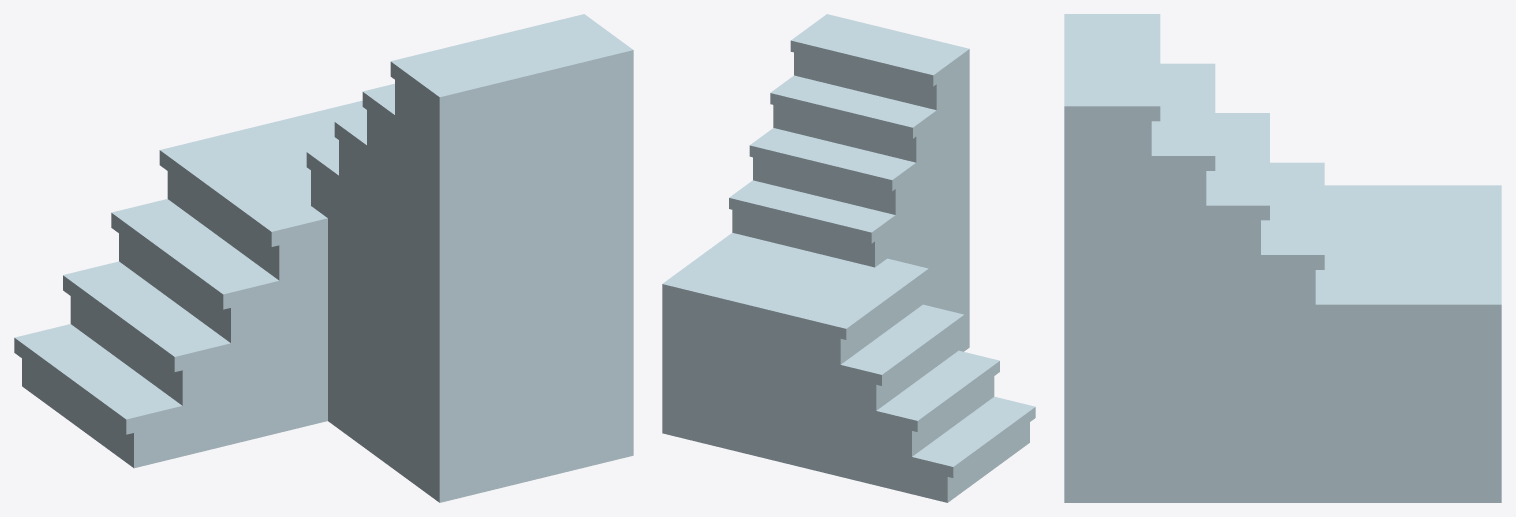
3 renders of one model, left to right at view 1: azimuth 30°, elevation 25°; view 2: azimuth 150°, elevation 25°; view 3: azimuth 270°, elevation 25°, orthographic. The views are drawn at different scales.
Parts seen in each view (by area): view 1: stairsStoneCorner; view 2: stairsStoneCorner; view 3: stairsStoneCorner.
Part boxes in pixels (<box>): stairsStoneCorner: <box>14,14,633,502</box>; stairsStoneCorner: <box>662,14,1035,502</box>; stairsStoneCorner: <box>1064,14,1501,502</box>.
Bounding box in the file's own units: 1.02 × 1 × 1.
